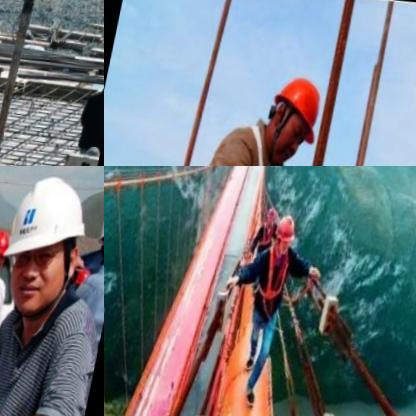helmet: (5, 176, 99, 321), (248, 62, 337, 166), (271, 213, 307, 265), (92, 186, 104, 276), (0, 231, 18, 277)
